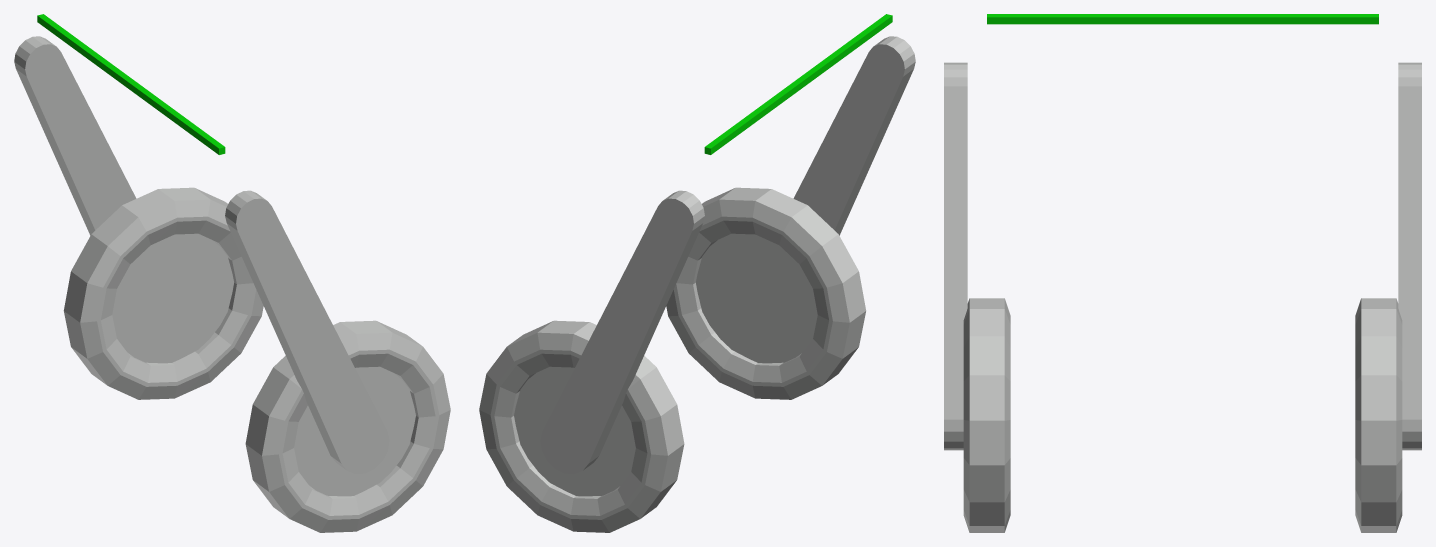
The model's file is _patra-lower-limb-patra-front-link.glb.
3 renders of one model, left to right at view 1: azimuth 30°, elevation 25°; view 2: azimuth 150°, elevation 25°; view 3: azimuth 270°, elevation 25°, orthographic. The views are drawn at different scales.
Bounding box in the file's own units: 0.36 × 0.62 × 0.61.
